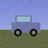vehicle: (12, 15, 40, 36)
